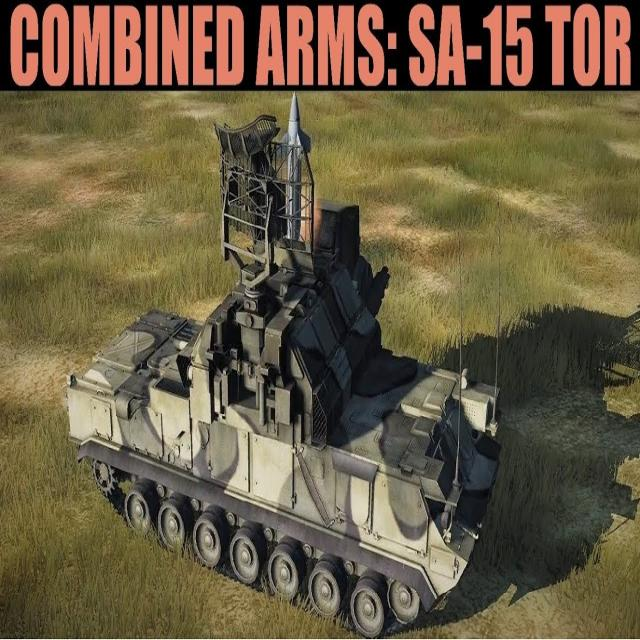MIL_EW_RDR: (60, 112, 499, 636)
